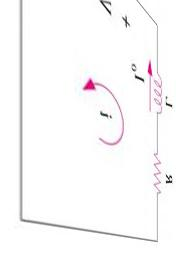inductor: (148, 67, 168, 121)
